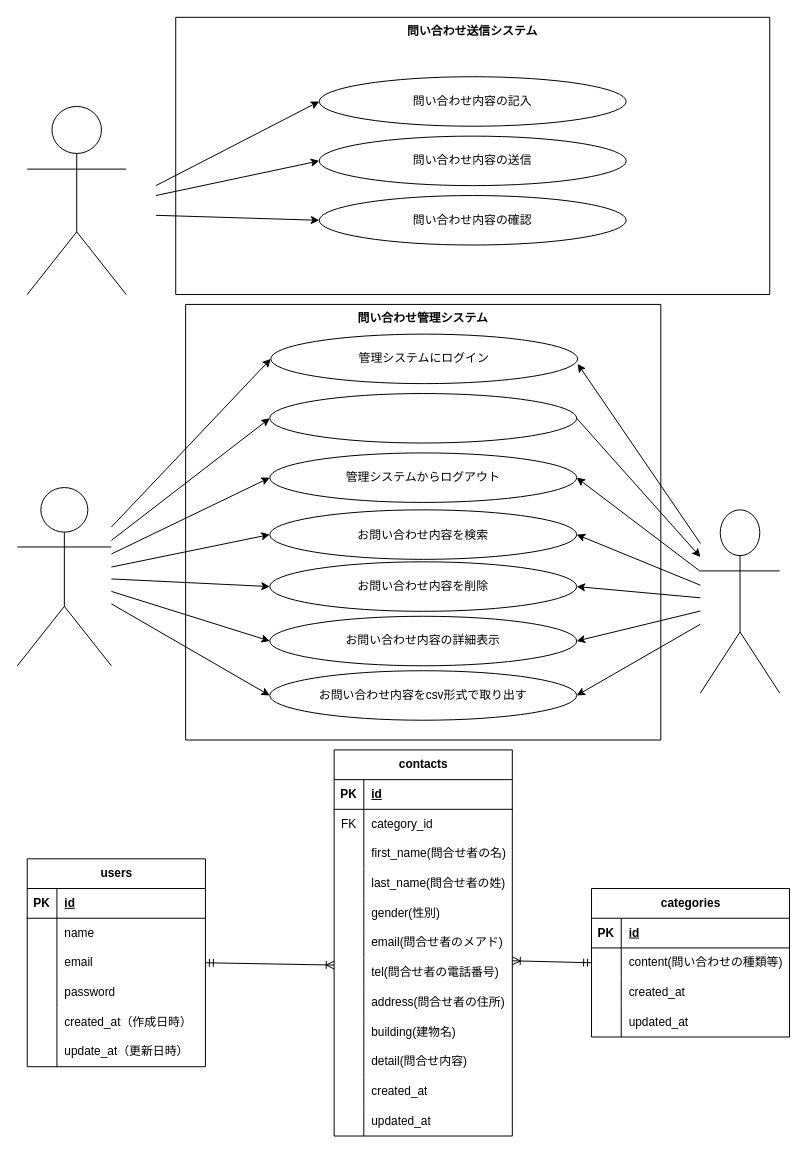
The diagram is 807 pixels wide and 1153 high, and some of its shapes have lost their labels. The centre of each missing label's shape, as x and y in pixels:
問合せ者: [76,200]
新規ユーザーの作成・登録: [423,418]
新規管理者: [739,601]
管理者: [63,576]
